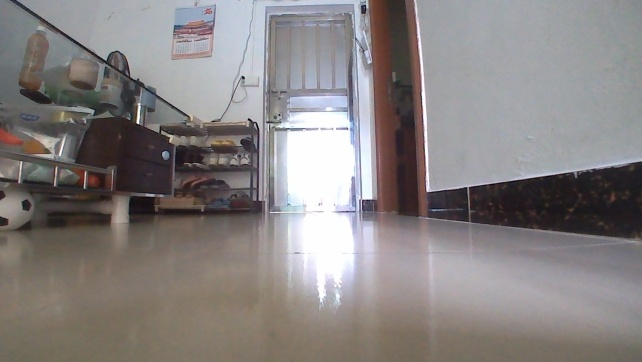door_anno: (266, 9, 360, 215)
tea_table1: (0, 0, 197, 227)
wire: (214, 0, 256, 122)
